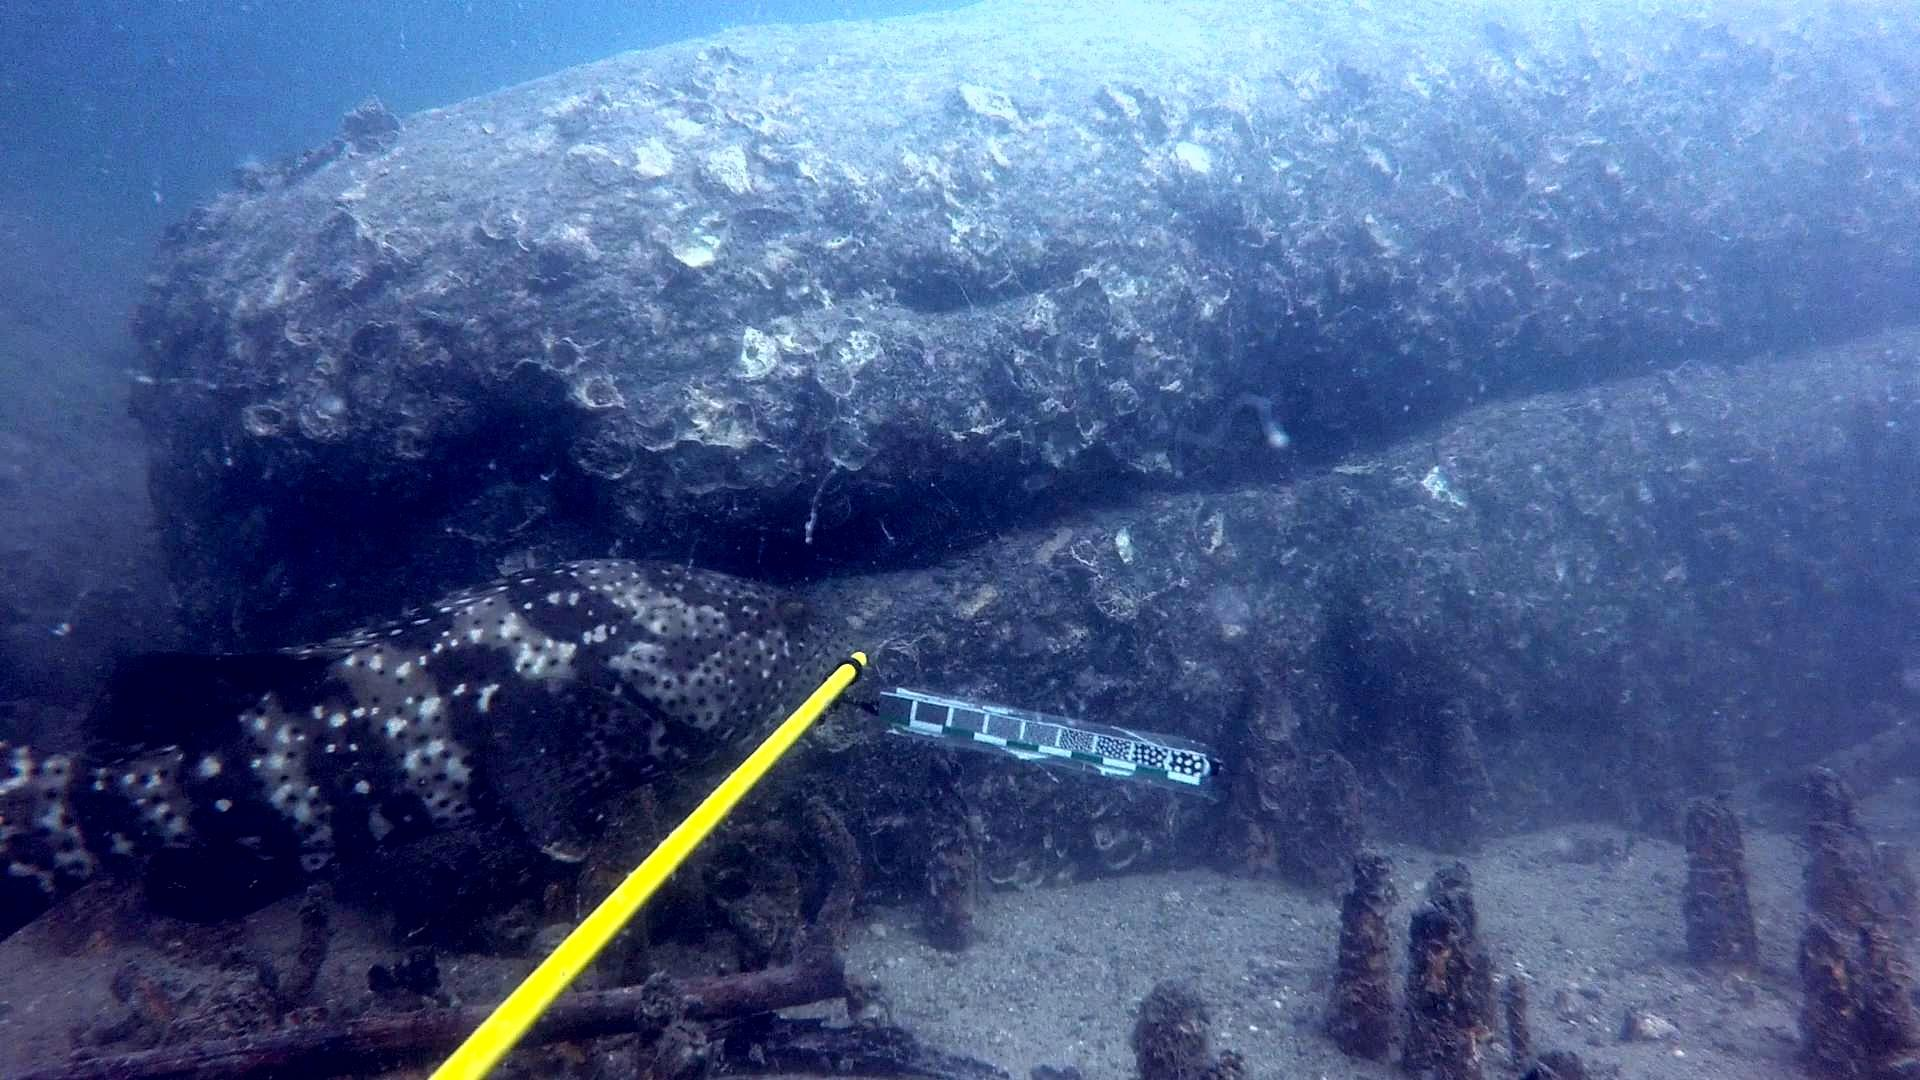epinephelus: (0, 555, 865, 947)
